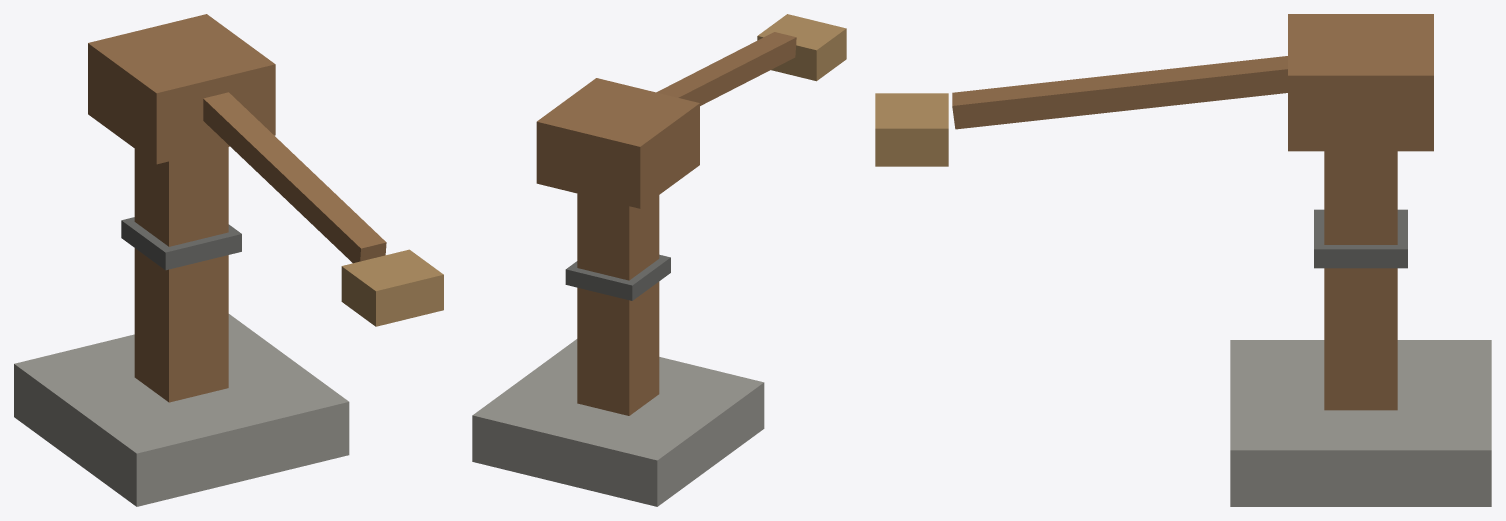
File: vf_feeder.glb
The picture shows the model from 3 angles, left to right: view 1: azimuth 30°, elevation 25°; view 2: azimuth 150°, elevation 25°; view 3: azimuth 270°, elevation 25°; orthographic projection. The views are drawn at different scales.
Visible parts, largest first — view 1: Static_Oak, Static_Stone, Arm_Yaw_Oak, Arm_Yaw_Bronze, Static_Iron; view 2: Static_Oak, Static_Stone, Arm_Yaw_Oak, Arm_Yaw_Bronze, Static_Iron; view 3: Static_Stone, Static_Oak, Arm_Yaw_Oak, Arm_Yaw_Bronze, Static_Iron.
Boxes of the visible parts, bbox=[...] form: Static_Oak: bbox=[88, 14, 275, 402]; Static_Stone: bbox=[14, 314, 349, 506]; Arm_Yaw_Oak: bbox=[203, 92, 386, 263]; Arm_Yaw_Bronze: bbox=[341, 249, 443, 326]; Static_Iron: bbox=[121, 217, 241, 270]; Static_Oak: bbox=[536, 78, 699, 415]; Static_Stone: bbox=[472, 339, 764, 506]; Arm_Yaw_Oak: bbox=[656, 32, 796, 105]; Arm_Yaw_Bronze: bbox=[757, 14, 846, 81]; Static_Iron: bbox=[565, 254, 670, 300]; Static_Stone: bbox=[1230, 340, 1491, 506]; Static_Oak: bbox=[1288, 14, 1433, 410]; Arm_Yaw_Oak: bbox=[952, 56, 1287, 129]; Arm_Yaw_Bronze: bbox=[875, 93, 948, 166]; Static_Iron: bbox=[1314, 209, 1407, 268].
Size of the model in its own units: 0.5 by 0.86 by 1.18.
